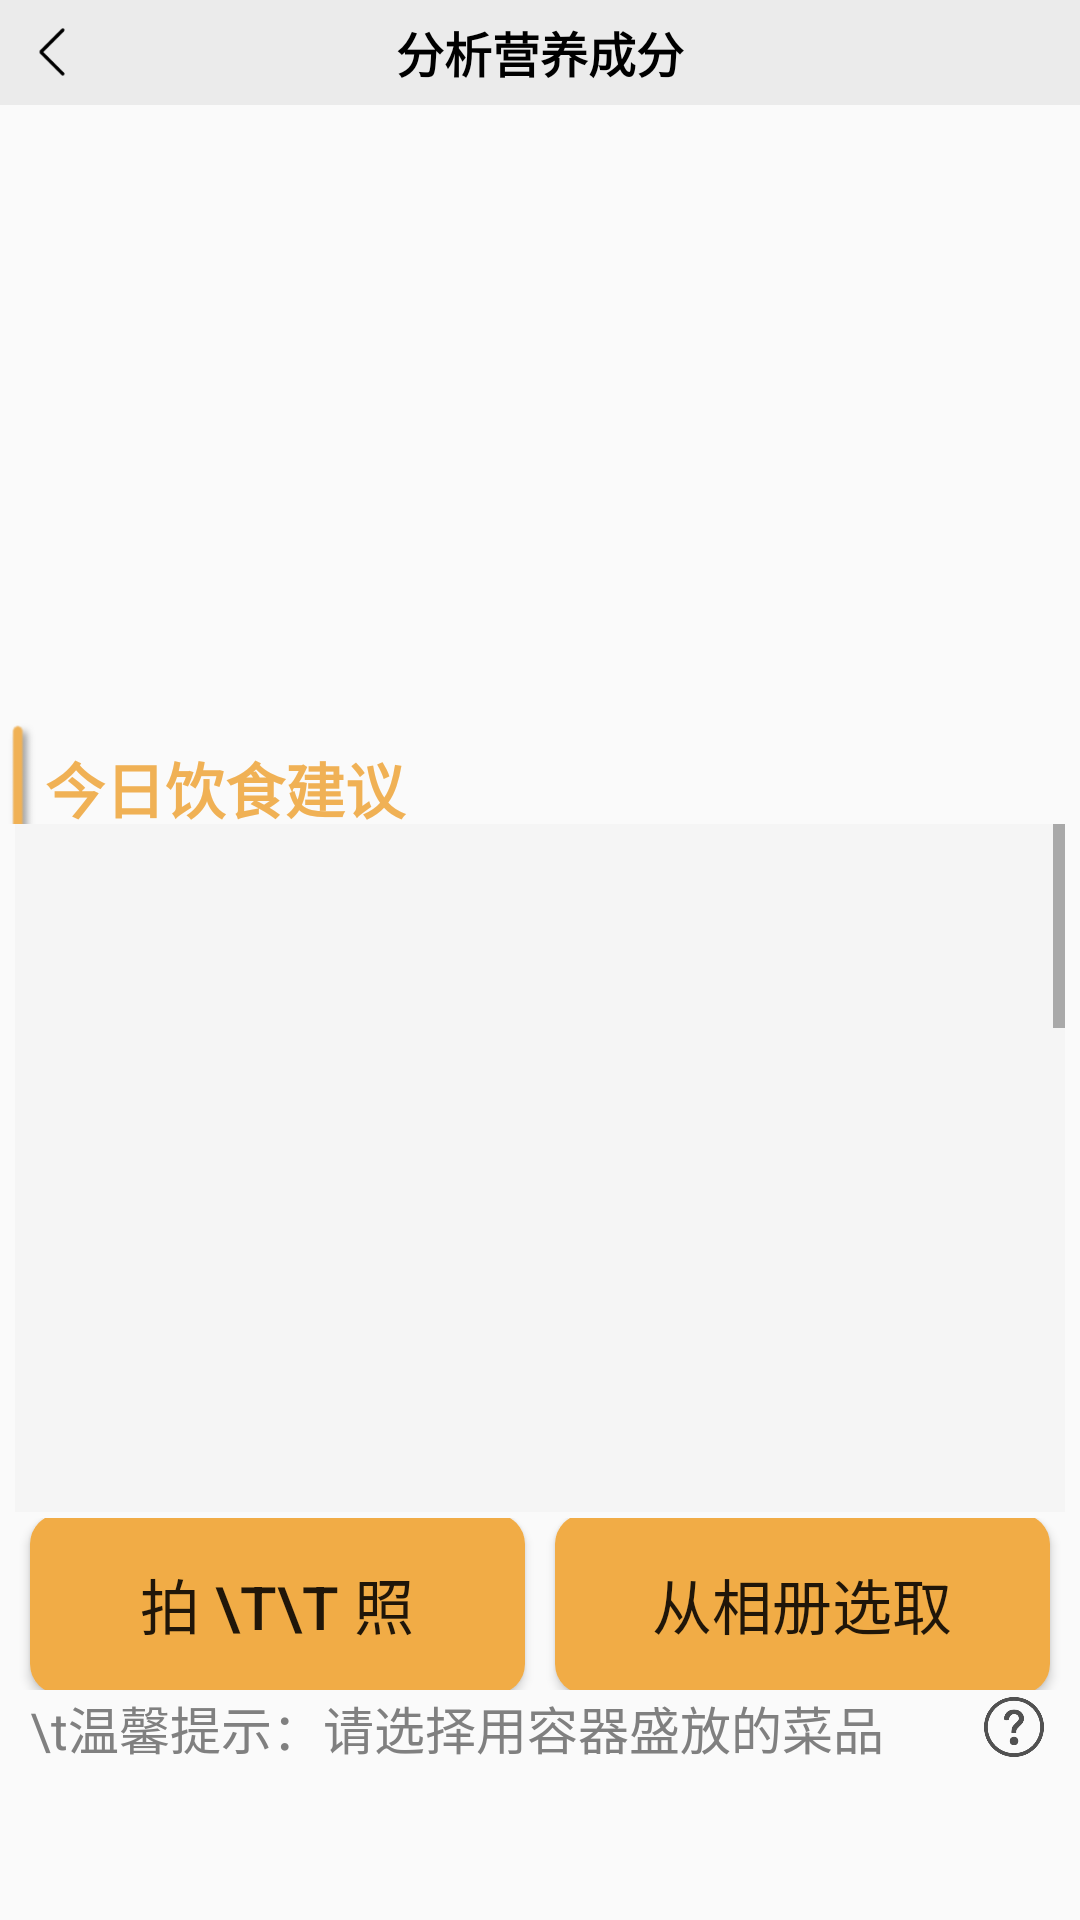

Where icons sit on this 1080*1920 app screen, as (x1, y1, x2, y2):
questionmark: (984, 1697, 1044, 1757)
